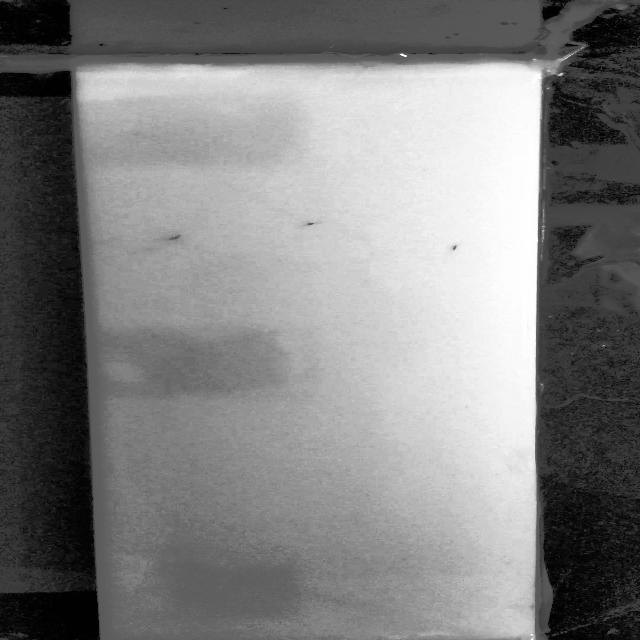shrimp: (446, 241, 462, 253), (168, 231, 186, 241), (302, 220, 322, 229)
